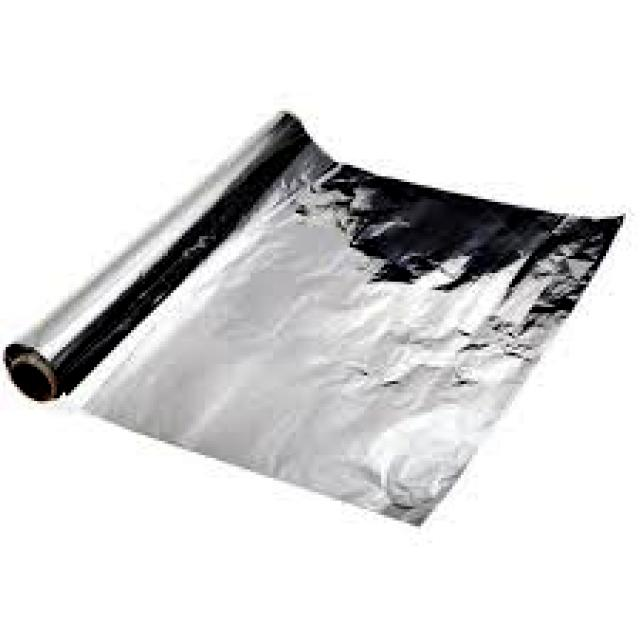Metal: (0, 102, 632, 532)
